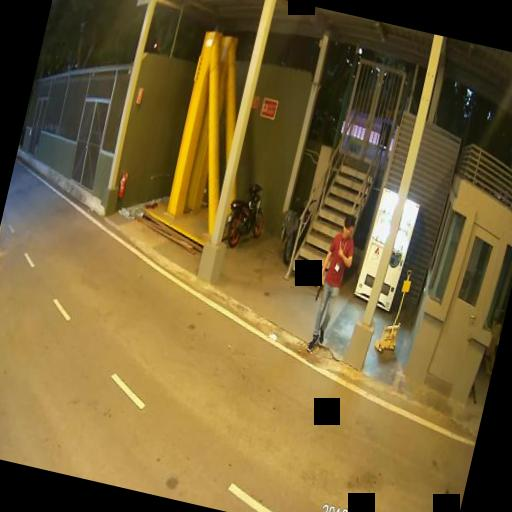Handgun: (312, 276, 324, 300)
